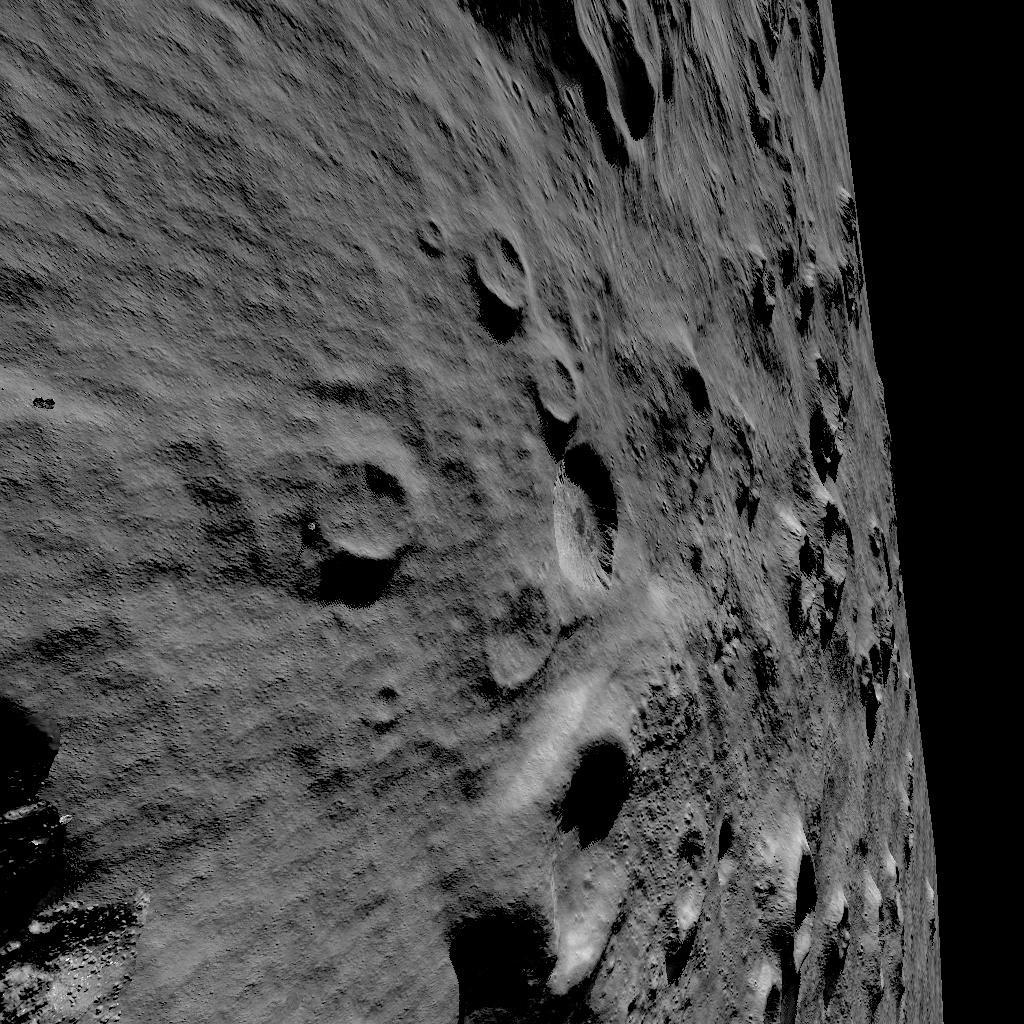Boulders: (0, 680, 161, 1024)
Crater: (470, 230, 626, 583), (671, 802, 918, 1024), (460, 722, 640, 1024), (781, 350, 903, 708), (451, 0, 705, 165), (746, 188, 873, 336), (654, 350, 760, 523), (744, 0, 836, 170), (303, 450, 413, 573)
Plan surface: (134, 0, 436, 438), (178, 680, 443, 1024), (0, 450, 283, 668)
